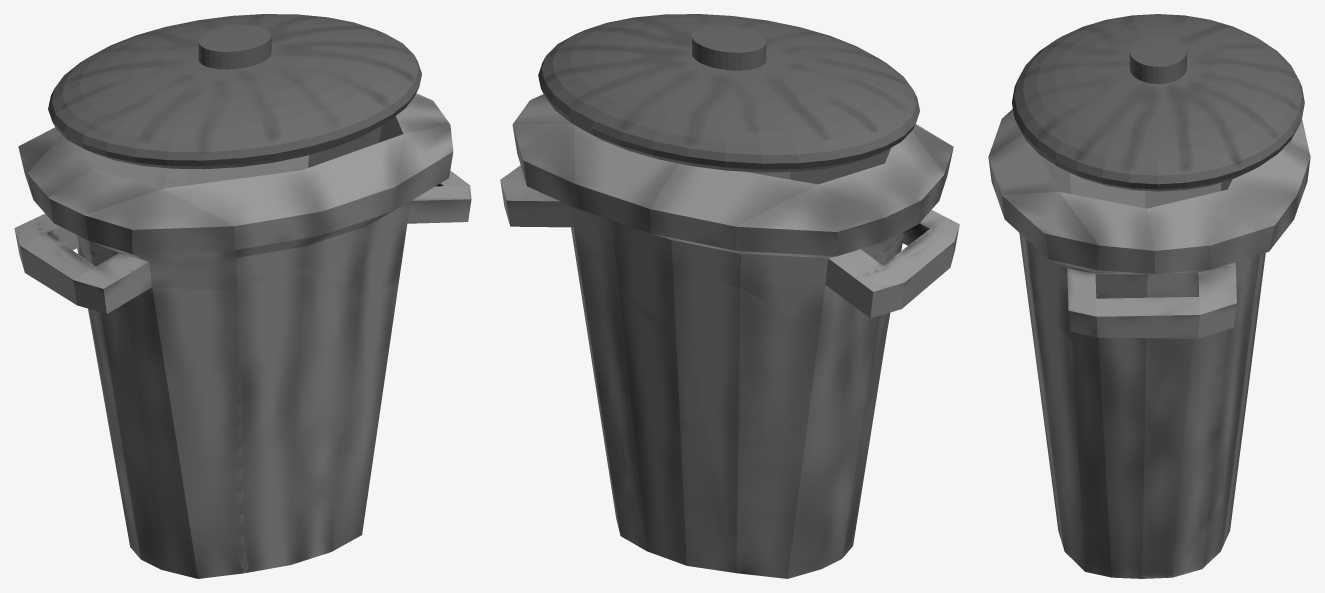
The model's file is trashbin.fbx.
The picture shows the model from 3 angles, left to right: view 1: azimuth 30°, elevation 25°; view 2: azimuth 150°, elevation 25°; view 3: azimuth 270°, elevation 25°; orthographic projection. The views are drawn at different scales.
Parts seen in each view (by area): view 1: Cube, Sphere; view 2: Cube, Sphere; view 3: Cube, Sphere.
Part boxes in pixels (x1,y1,x2,y2): Cube: (14,93,471,578); Sphere: (48,14,421,169); Cube: (500,94,959,578); Sphere: (538,14,919,172); Cube: (988,109,1310,578); Sphere: (1012,14,1304,191).
Bounding box in the file's own units: 136 × 161 × 98.06.
